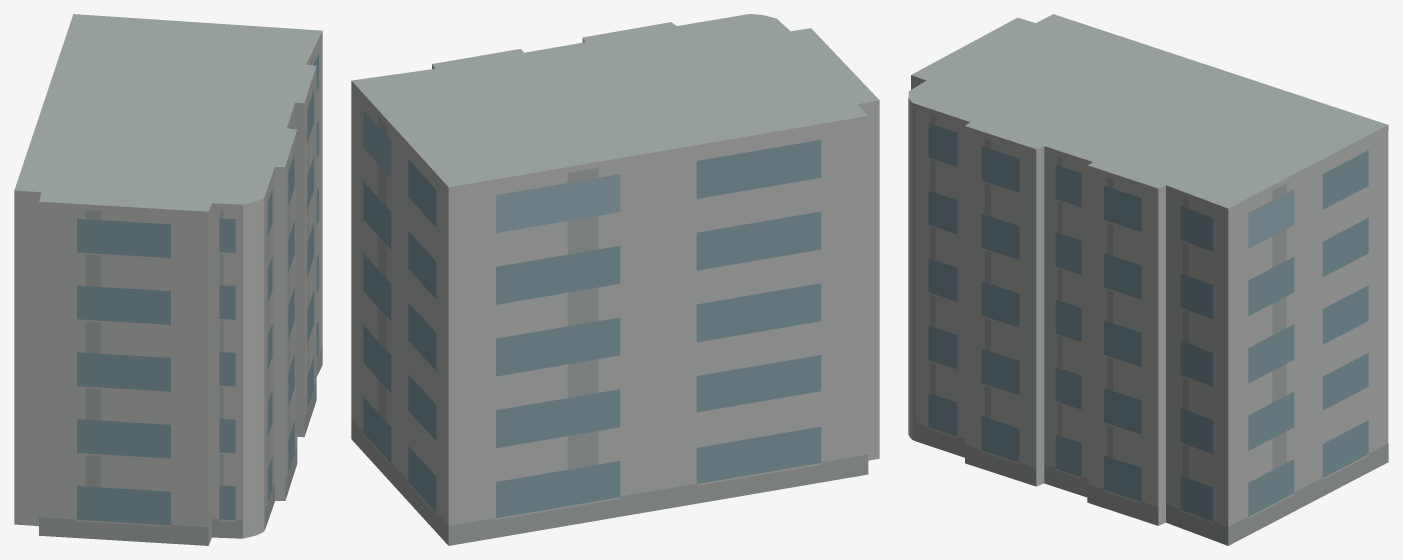
Rendered from survey-upis-32945654.glb.
The picture shows the model from 3 angles, left to right: view 1: azimuth 30°, elevation 25°; view 2: azimuth 150°, elevation 25°; view 3: azimuth 270°, elevation 25°; orthographic projection. The views are drawn at different scales.
Visible parts, largest first — view 1: survey-upis-32945654.tmp; view 2: survey-upis-32945654.tmp; view 3: survey-upis-32945654.tmp.
Boxes of the visible parts, left/top/right/bottom form: survey-upis-32945654.tmp: left=14, top=14, right=322, bottom=545; survey-upis-32945654.tmp: left=351, top=14, right=879, bottom=545; survey-upis-32945654.tmp: left=908, top=14, right=1388, bottom=545.
Size of the model in its own units: 17.76 by 14.35 by 18.51.
